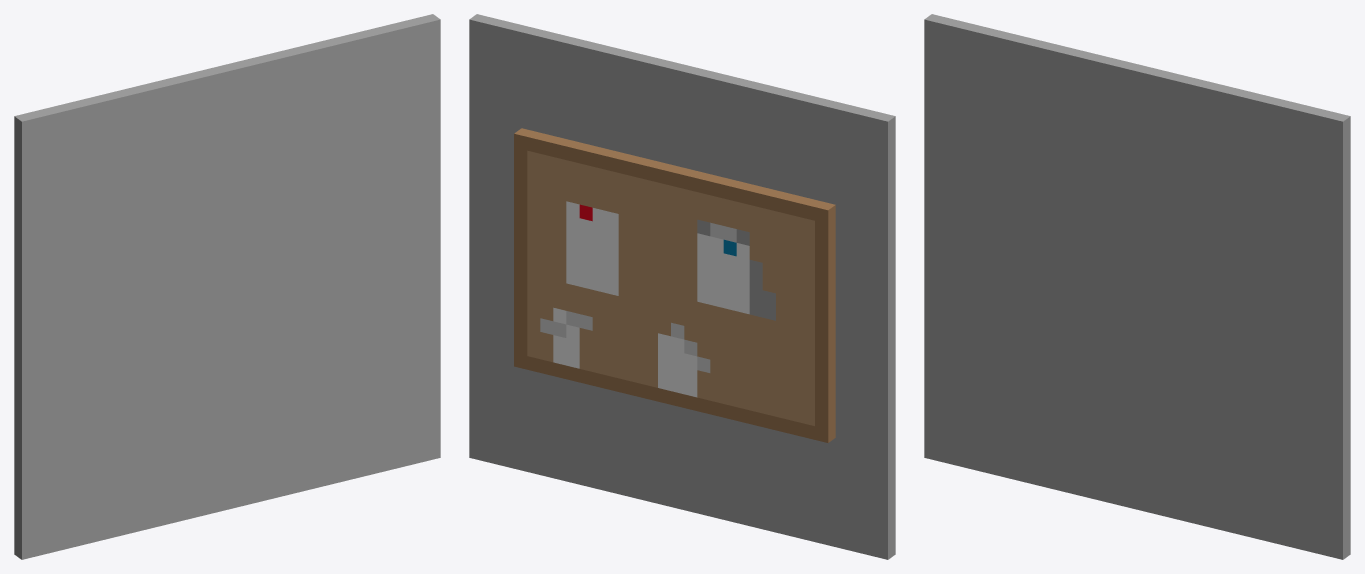
The model's file is Bulletin.fbx.
3 renders of one model, left to right at view 1: azimuth 30°, elevation 25°; view 2: azimuth 150°, elevation 25°; view 3: azimuth 330°, elevation 25°, orthographic.
Parts seen in each view (by area): view 1: Bulletin; view 2: Bulletin; view 3: Bulletin.
Part boxes in pixels (box(x1,y1,x2,y2)): Bulletin: box(14, 14, 440, 559); Bulletin: box(469, 14, 895, 559); Bulletin: box(924, 14, 1350, 559).
Size of the model in its own units: 3200 by 3200 by 200.
